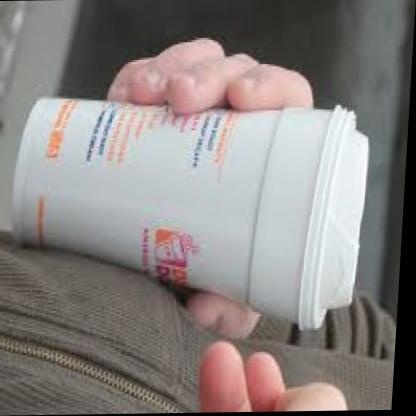trash: (13, 99, 367, 329)
